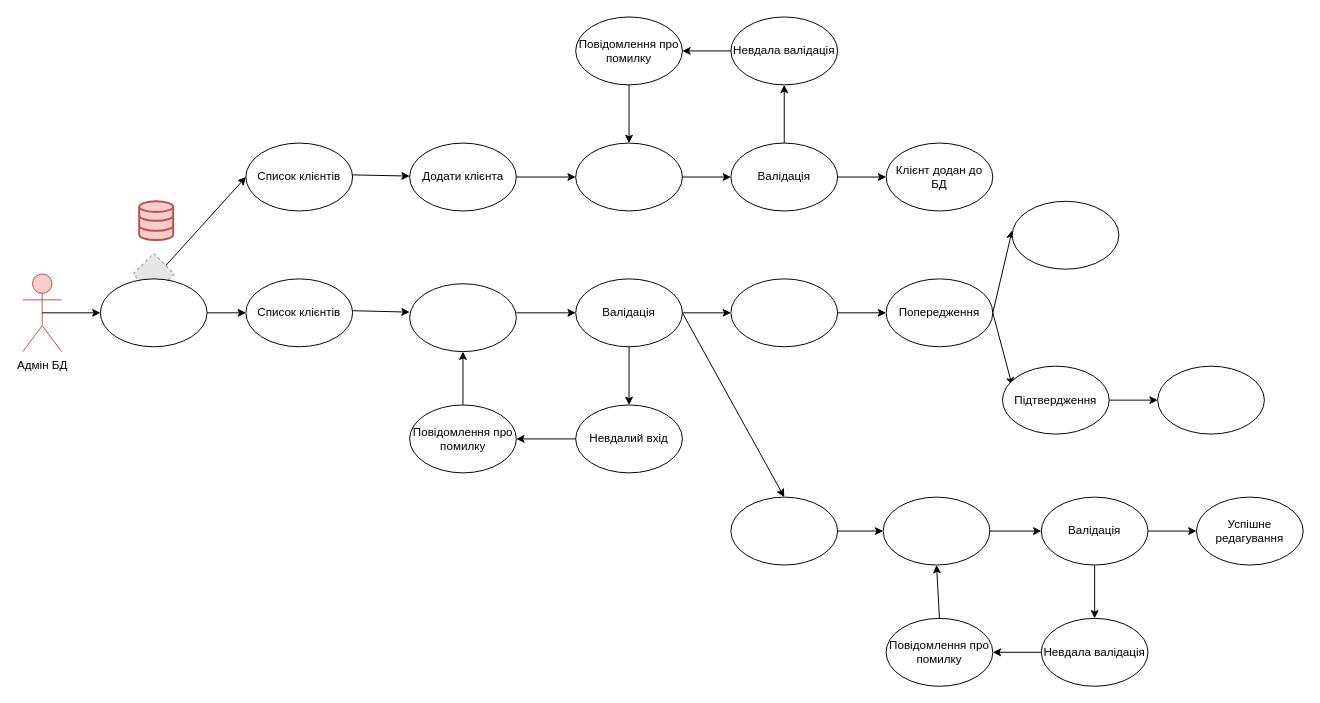
Some shapes in this 1320 by 703 pixel diagram are drawn without their labels. Grey dashed boxes stand in for pictures. The centre of each missing label's shape, as x and y in pixels:
"SQL Server" belongs at pixel 156 220.
"Видалення клієнта" belongs at pixel 1210 399.
"Видалити клієнта" belongs at pixel 784 312.
"Вхід до БД бібліотеки" belongs at pixel 153 312.
"Відміна" belongs at pixel 1065 234.
"Заповнення обов'язкових даних" belongs at pixel 628 176.
"Пошук конкретних клієнтів" belongs at pixel 462 317.
"Редагування даних" belongs at pixel 936 530.
"Редагувати клієнта" belongs at pixel 784 530.
